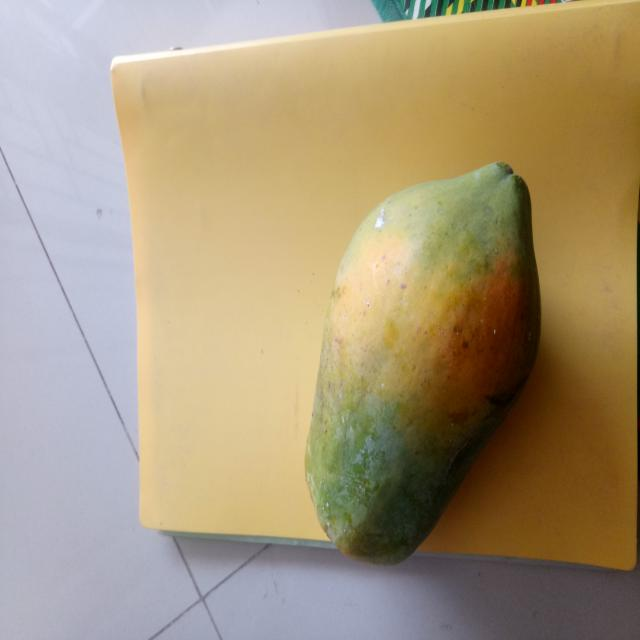Pepaya rippen: (282, 163, 550, 547)
